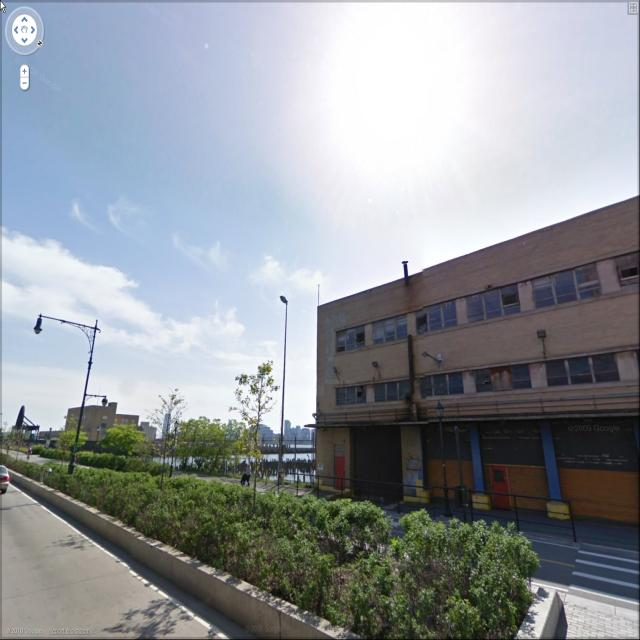b_1: (314, 195, 640, 532)
b_2: (161, 400, 275, 463), (56, 399, 156, 457)
